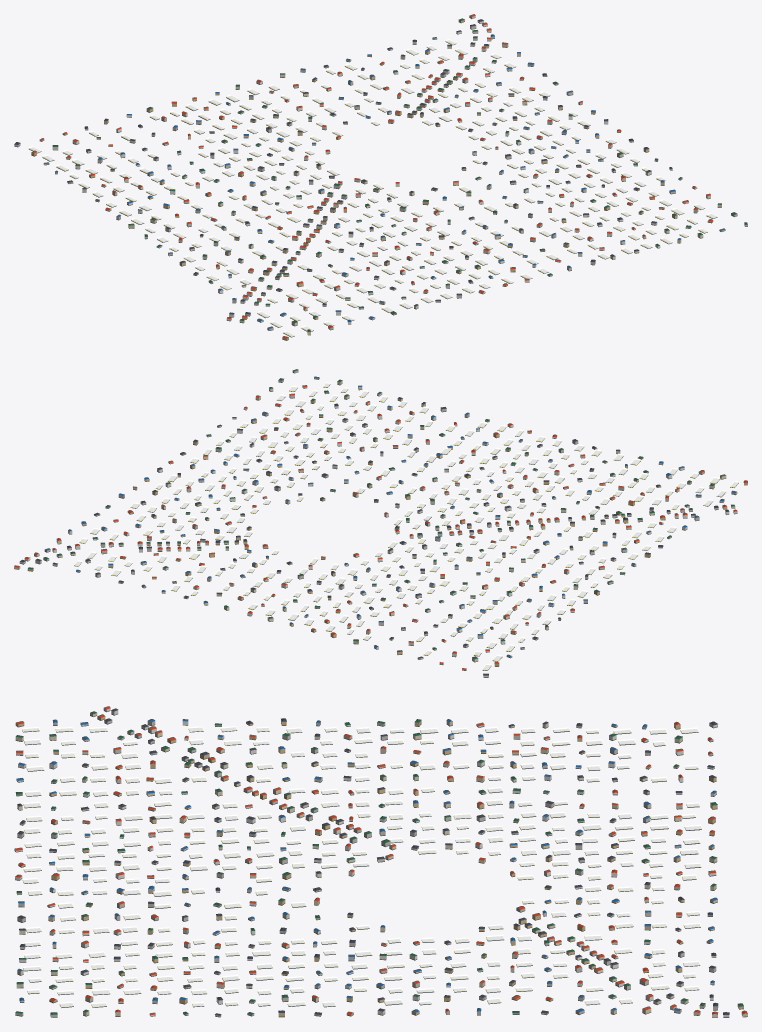
Rendered from buildings_T_E05_N05.glb.
3 views of the same model, one above another, from view 1: azimuth 30°, elevation 25°; view 2: azimuth 150°, elevation 25°; view 3: azimuth 270°, elevation 25° (orthographic). The views are drawn at different scales.
Visible parts, largest first — view 1: T_E05_N05_roofs_agri_greenhouse_arch, T_E05_N05_slope_seating_foundations, T_E05_N05_walls_wall_pastel_sand_gray, T_E05_N05_walls_wall_french_ochre_villa, T_E05_N05_walls_wall_dalat_cream_stucco, T_E05_N05_roofs_roof_terracotta_gable, T_E05_N05_roofs_roof_slate_French_villa_hip, T_E05_N05_walls_wall_modern_warm_white, T_E05_N05_roofs_roof_pine_green_hip, T_E05_N05_roofs_roof_highland_blue_gable; view 2: T_E05_N05_roofs_agri_greenhouse_arch, T_E05_N05_slope_seating_foundations, T_E05_N05_walls_wall_pastel_sand_gray, T_E05_N05_walls_wall_dalat_cream_stucco, T_E05_N05_roofs_roof_terracotta_gable, T_E05_N05_walls_wall_french_ochre_villa, T_E05_N05_roofs_roof_slate_French_villa_hip, T_E05_N05_walls_wall_modern_warm_white, T_E05_N05_roofs_roof_pine_green_hip, T_E05_N05_roofs_roof_highland_blue_gable; view 3: T_E05_N05_roofs_agri_greenhouse_arch, T_E05_N05_slope_seating_foundations, T_E05_N05_walls_wall_pastel_sand_gray, T_E05_N05_walls_wall_french_ochre_villa, T_E05_N05_walls_wall_dalat_cream_stucco, T_E05_N05_roofs_roof_terracotta_gable, T_E05_N05_roofs_roof_slate_French_villa_hip, T_E05_N05_walls_wall_modern_warm_white, T_E05_N05_roofs_roof_pine_green_hip, T_E05_N05_roofs_roof_highland_blue_gable.
Part boxes in pixels (x1,y1,x2,y2): T_E05_N05_roofs_agri_greenhouse_arch: (28, 39, 717, 336); T_E05_N05_slope_seating_foundations: (14, 17, 747, 340); T_E05_N05_walls_wall_pastel_sand_gray: (39, 25, 747, 330); T_E05_N05_walls_wall_french_ochre_villa: (31, 19, 712, 340); T_E05_N05_walls_wall_dalat_cream_stucco: (52, 15, 725, 334); T_E05_N05_roofs_roof_terracotta_gable: (32, 14, 713, 338); T_E05_N05_roofs_roof_slate_French_villa_hip: (14, 19, 672, 314); T_E05_N05_walls_wall_modern_warm_white: (14, 20, 697, 324); T_E05_N05_roofs_roof_pine_green_hip: (52, 18, 747, 331); T_E05_N05_roofs_roof_highland_blue_gable: (44, 34, 725, 328); T_E05_N05_roofs_agri_greenhouse_arch: (74, 382, 738, 670); T_E05_N05_slope_seating_foundations: (14, 372, 747, 677); T_E05_N05_walls_wall_pastel_sand_gray: (35, 370, 737, 670); T_E05_N05_walls_wall_dalat_cream_stucco: (14, 377, 735, 661); T_E05_N05_roofs_roof_terracotta_gable: (14, 385, 747, 669); T_E05_N05_walls_wall_french_ochre_villa: (27, 386, 747, 666); T_E05_N05_roofs_roof_slate_French_villa_hip: (20, 397, 729, 675); T_E05_N05_walls_wall_modern_warm_white: (19, 393, 737, 677); T_E05_N05_roofs_roof_pine_green_hip: (28, 369, 734, 659); T_E05_N05_roofs_roof_highland_blue_gable: (46, 376, 736, 656); T_E05_N05_roofs_agri_greenhouse_arch: (22, 726, 701, 1007); T_E05_N05_slope_seating_foundations: (14, 710, 747, 1017); T_E05_N05_walls_wall_pastel_sand_gray: (15, 720, 718, 1017); T_E05_N05_walls_wall_french_ochre_villa: (15, 716, 743, 1016); T_E05_N05_walls_wall_dalat_cream_stucco: (15, 713, 747, 1016); T_E05_N05_roofs_roof_terracotta_gable: (15, 706, 747, 1014); T_E05_N05_roofs_roof_slate_French_villa_hip: (17, 708, 729, 1015); T_E05_N05_walls_wall_modern_warm_white: (14, 707, 729, 1017); T_E05_N05_roofs_roof_pine_green_hip: (15, 711, 743, 1014); T_E05_N05_roofs_roof_highland_blue_gable: (16, 719, 717, 1012).
Bounding box in the file's own units: 1850 × 34.27 × 1830.
